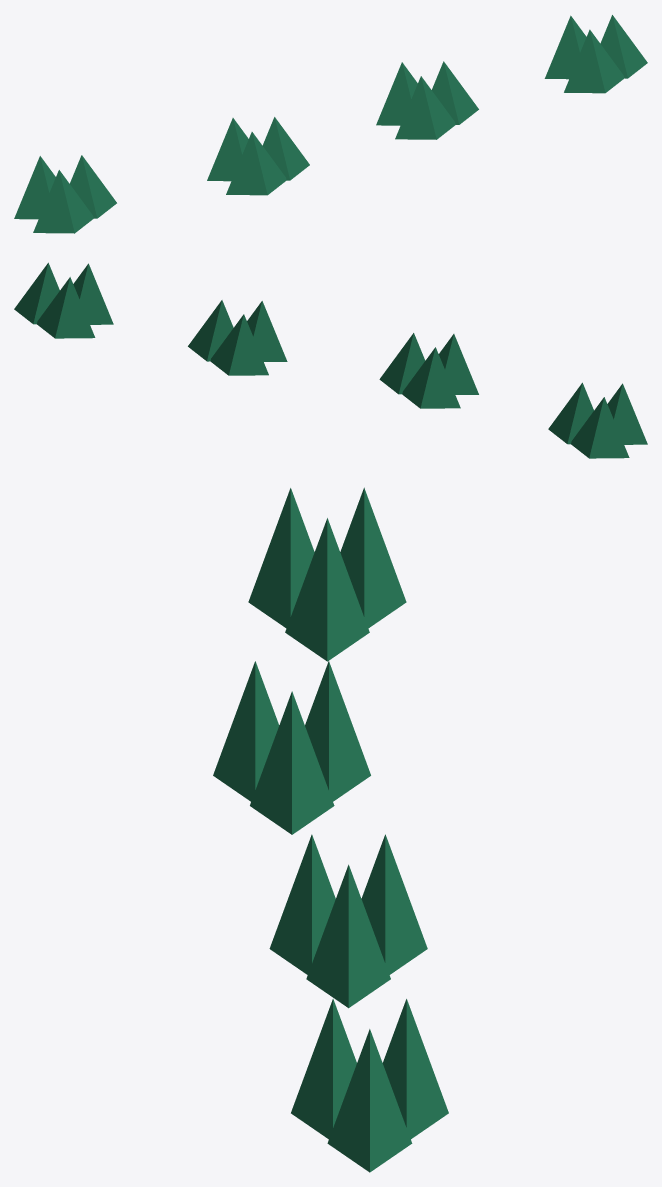
3 renders of one model, top to bottom at view 1: azimuth 30°, elevation 25°; view 2: azimuth 150°, elevation 25°; view 3: azimuth 270°, elevation 25°, orthographic. The views are drawn at different scales.
Parts seen in each view (by area): view 1: 林缘青色折叶.001; view 2: 林缘青色折叶.001; view 3: 林缘青色折叶.001.
Boxes of the visible parts, bbox=[...] form: 林缘青色折叶.001: bbox=[14, 15, 647, 233]; 林缘青色折叶.001: bbox=[14, 262, 647, 458]; 林缘青色折叶.001: bbox=[213, 487, 448, 1172].
Bounding box in the file's own units: 2.01 × 0.1725 × 0.3339.
